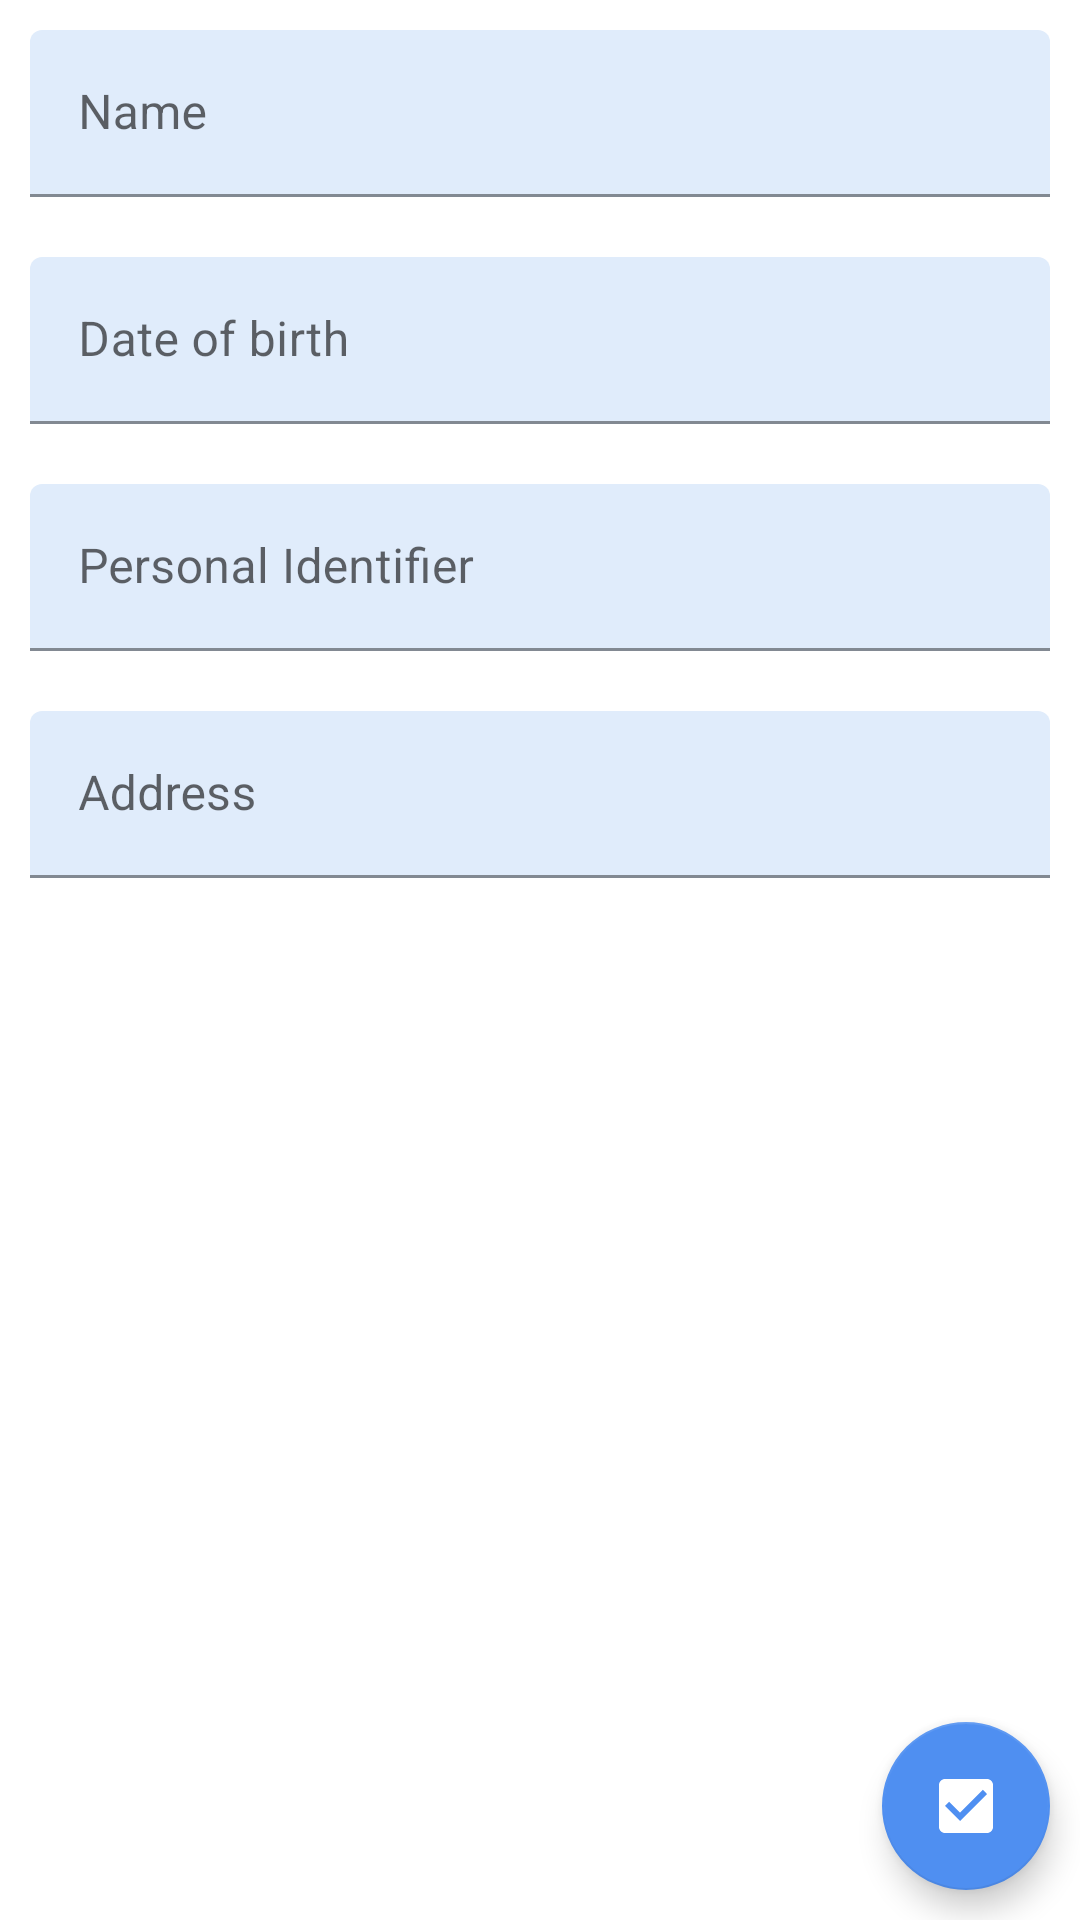

Icons on this 1080px×1920px Android screen, each with its box as [left=x1, top=y1, right=x2, bottom=y2]:
confirm: [left=882, top=1722, right=1050, bottom=1890]
